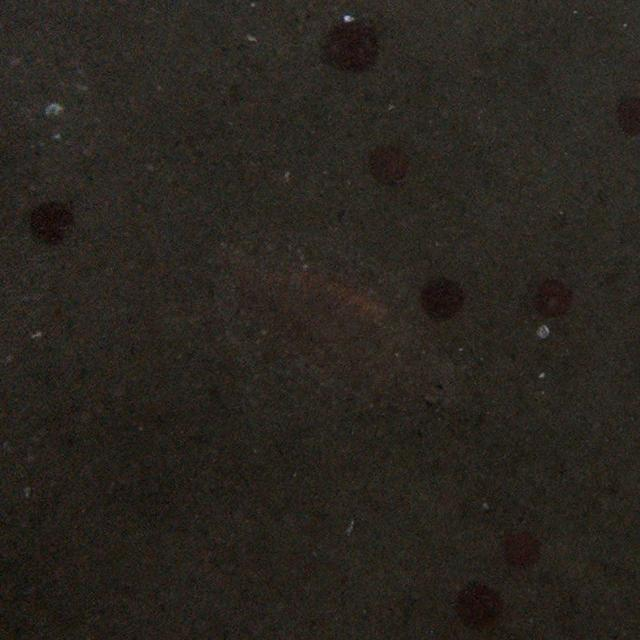flatfish: (211, 219, 468, 420)
